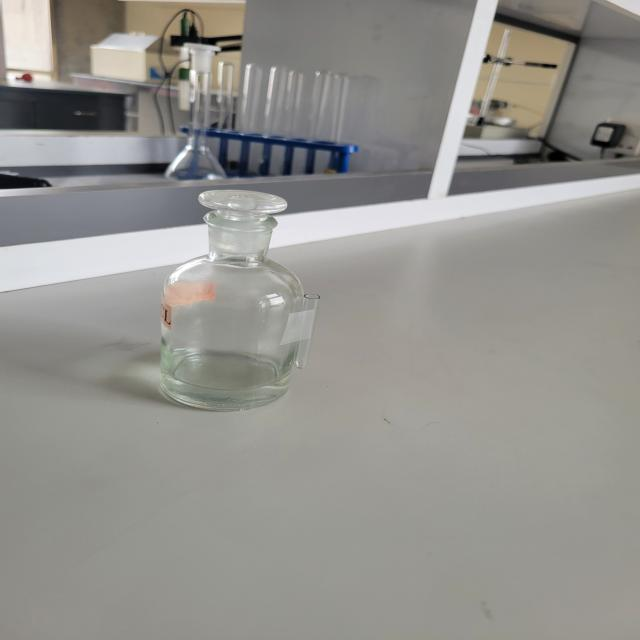Reagent_Bottle: (76, 161, 356, 413)
